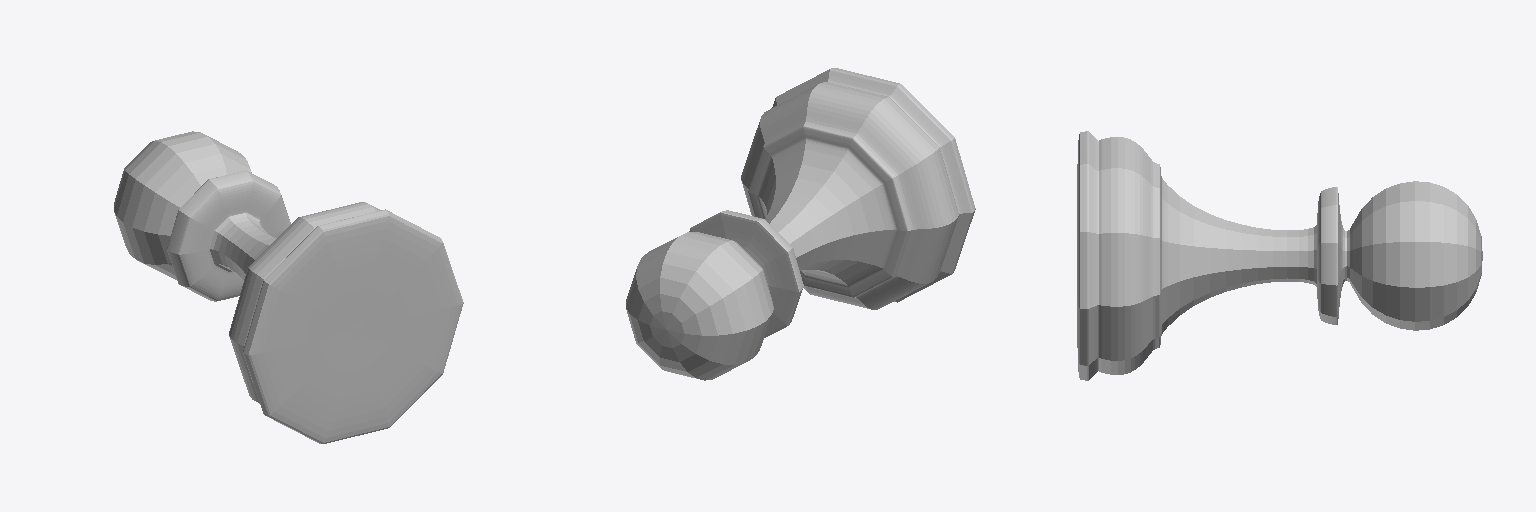
The model's file is pawn.obj.
The picture shows the model from 3 angles: view 1: azimuth 30°, elevation 25°; view 2: azimuth 150°, elevation 25°; view 3: azimuth 270°, elevation 25°; orthographic projection.
Size of the model in its own units: 1.57 by 1.49 by 2.53.